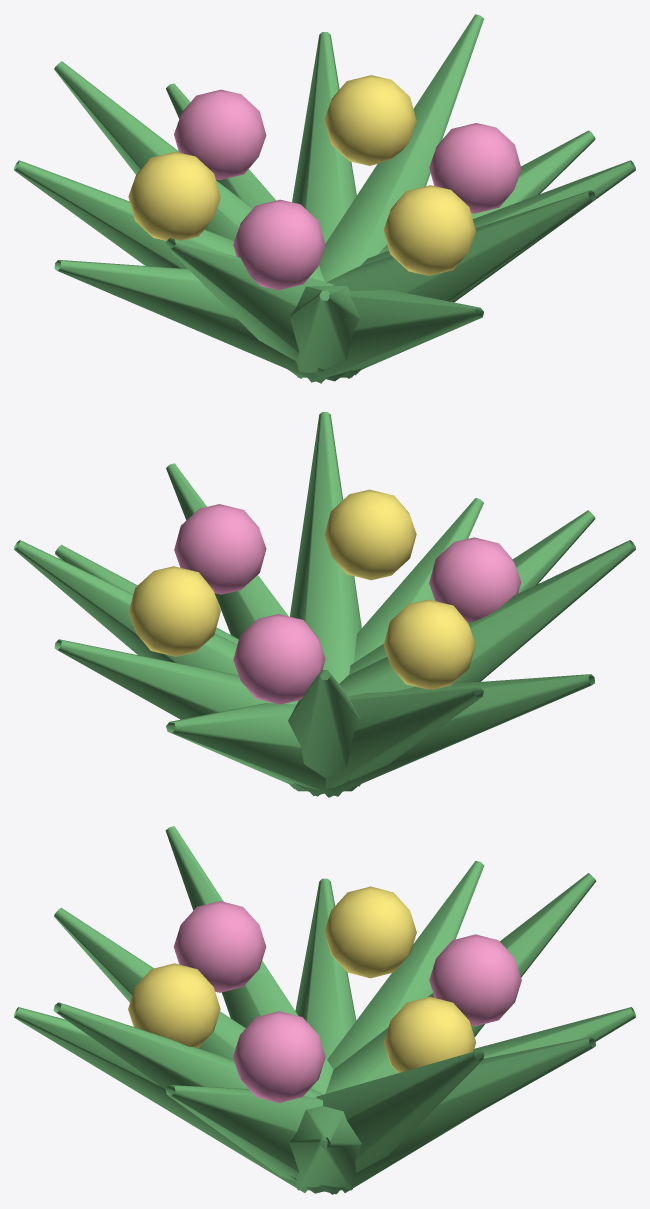
Rendered from fern_cluster.glb.
3 renders of one model, top to bottom at view 1: azimuth 30°, elevation 25°; view 2: azimuth 150°, elevation 25°; view 3: azimuth 270°, elevation 25°, orthographic.
Parts seen in each view (by area): view 1: RootNode; view 2: RootNode; view 3: RootNode.
Boxes of the visible parts, x1,y1,x2,y2 form: RootNode: (14,14,635,383); RootNode: (14,412,635,797); RootNode: (14,826,635,1194).
Size of the model in its own units: 3.22 by 1.39 by 3.22.
